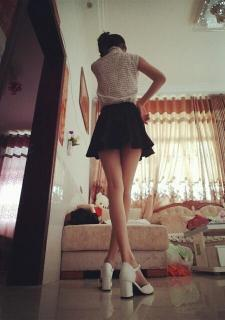short sleeve top: (91, 46, 139, 111)
skirt: (85, 102, 155, 161)
